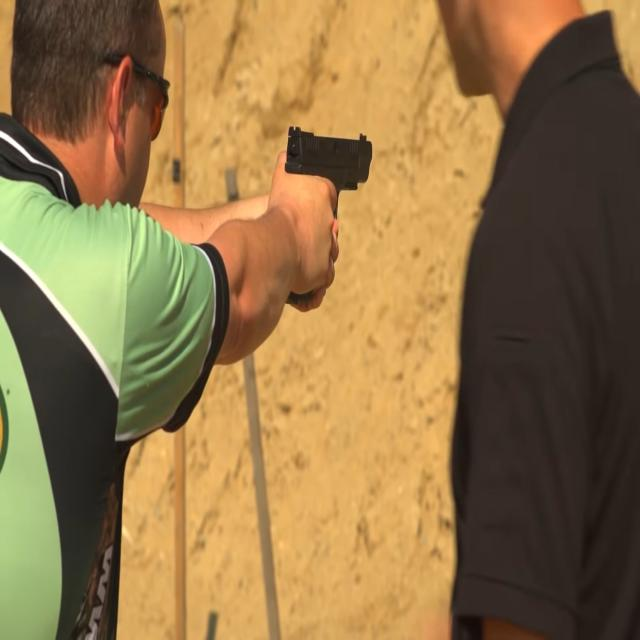Gun_Holder: (271, 99, 385, 290)
Person: (5, 0, 328, 640), (441, 0, 640, 637)
